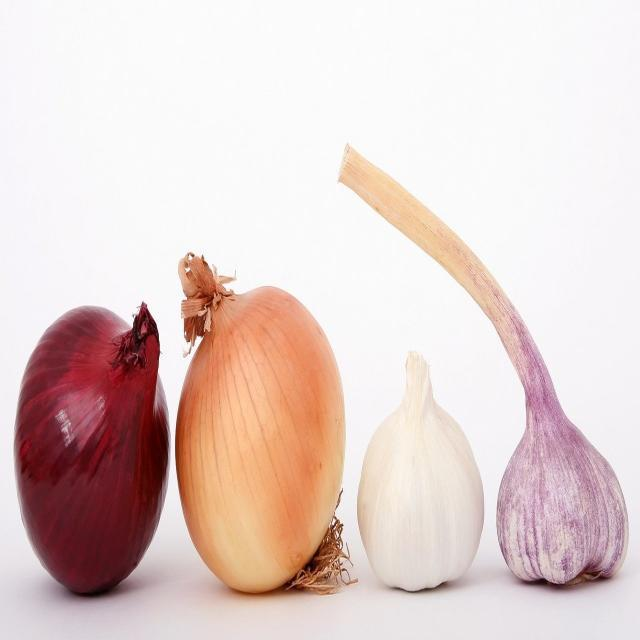garlic: (499, 305, 628, 583), (355, 357, 487, 593)
onion: (175, 258, 341, 599), (17, 302, 174, 602)
